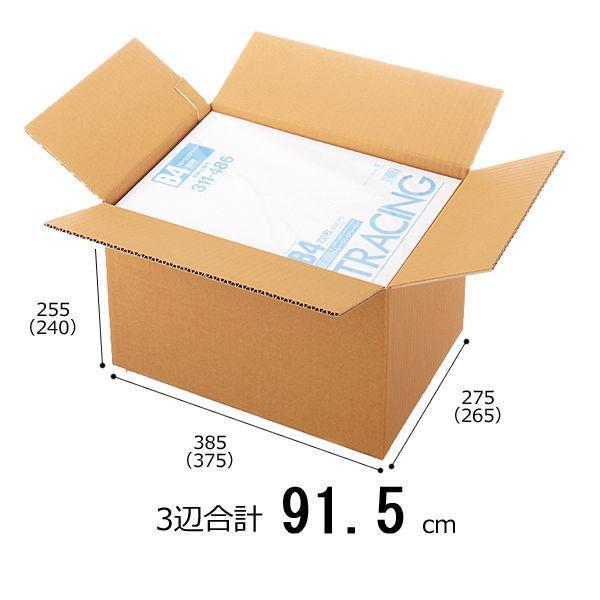box: (27, 23, 565, 451)
